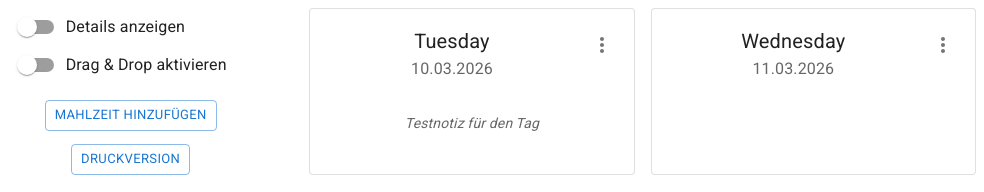
Test: MenuplanHeaderRow › Kontextmenü — schliesst sofort bei Klick, unabhängig vom Dialog-Roundtrip › schliesst das Kontextmenü beim Klick auf 'Notiz löschen'
Click the button named "settings" next to "10.03.2026".
click(602, 45)  # box x1=578 y1=21 x2=626 y2=69
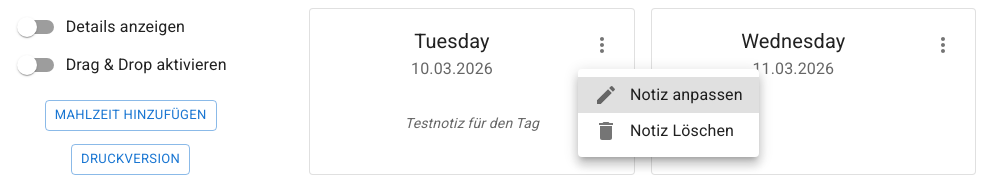
Now the menu is shown, box x1=578 y1=69 x2=759 y2=157
Click the menu item "Notiz Löschen".
click(664, 131)  # box x1=594 y1=119 x2=734 y2=143
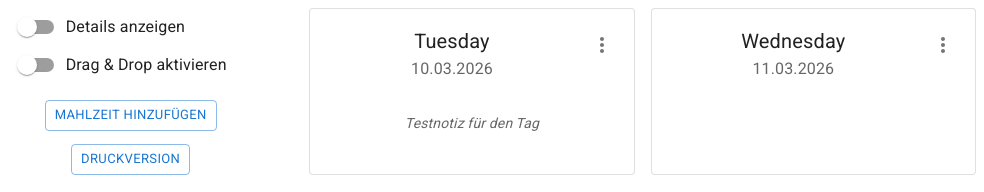
Now the menu is gone
